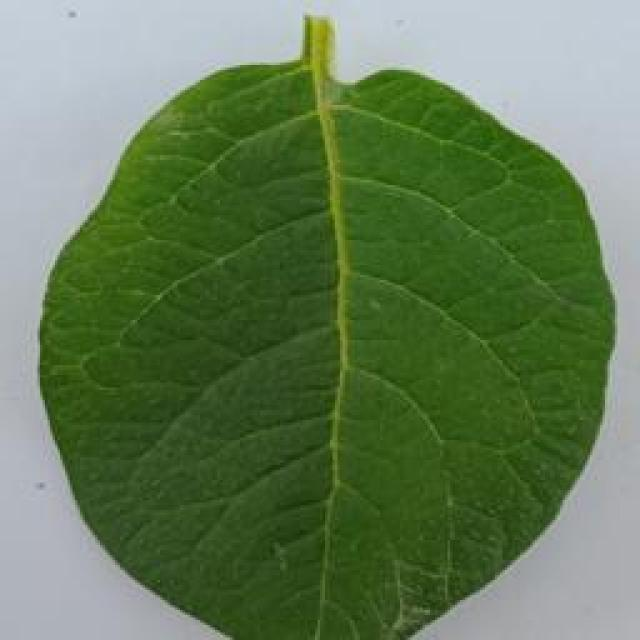Potato_Healthy: (36, 14, 604, 635)
